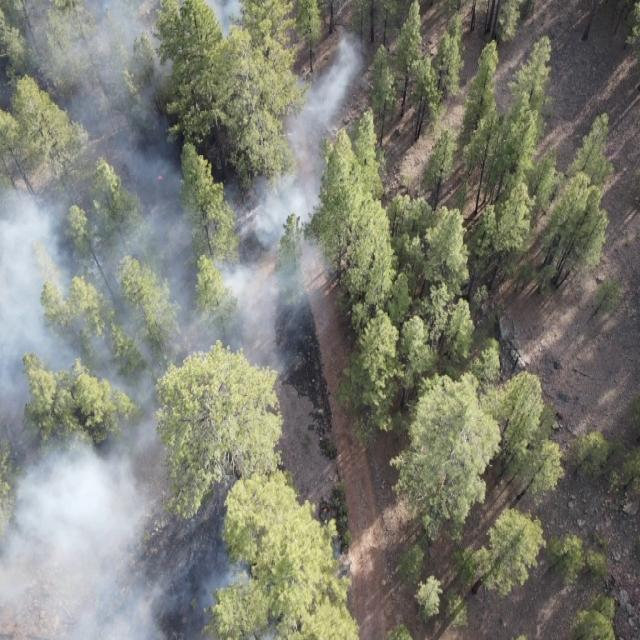fire: (155, 172, 166, 182)
smoke: (0, 259, 337, 640), (0, 0, 377, 258)
